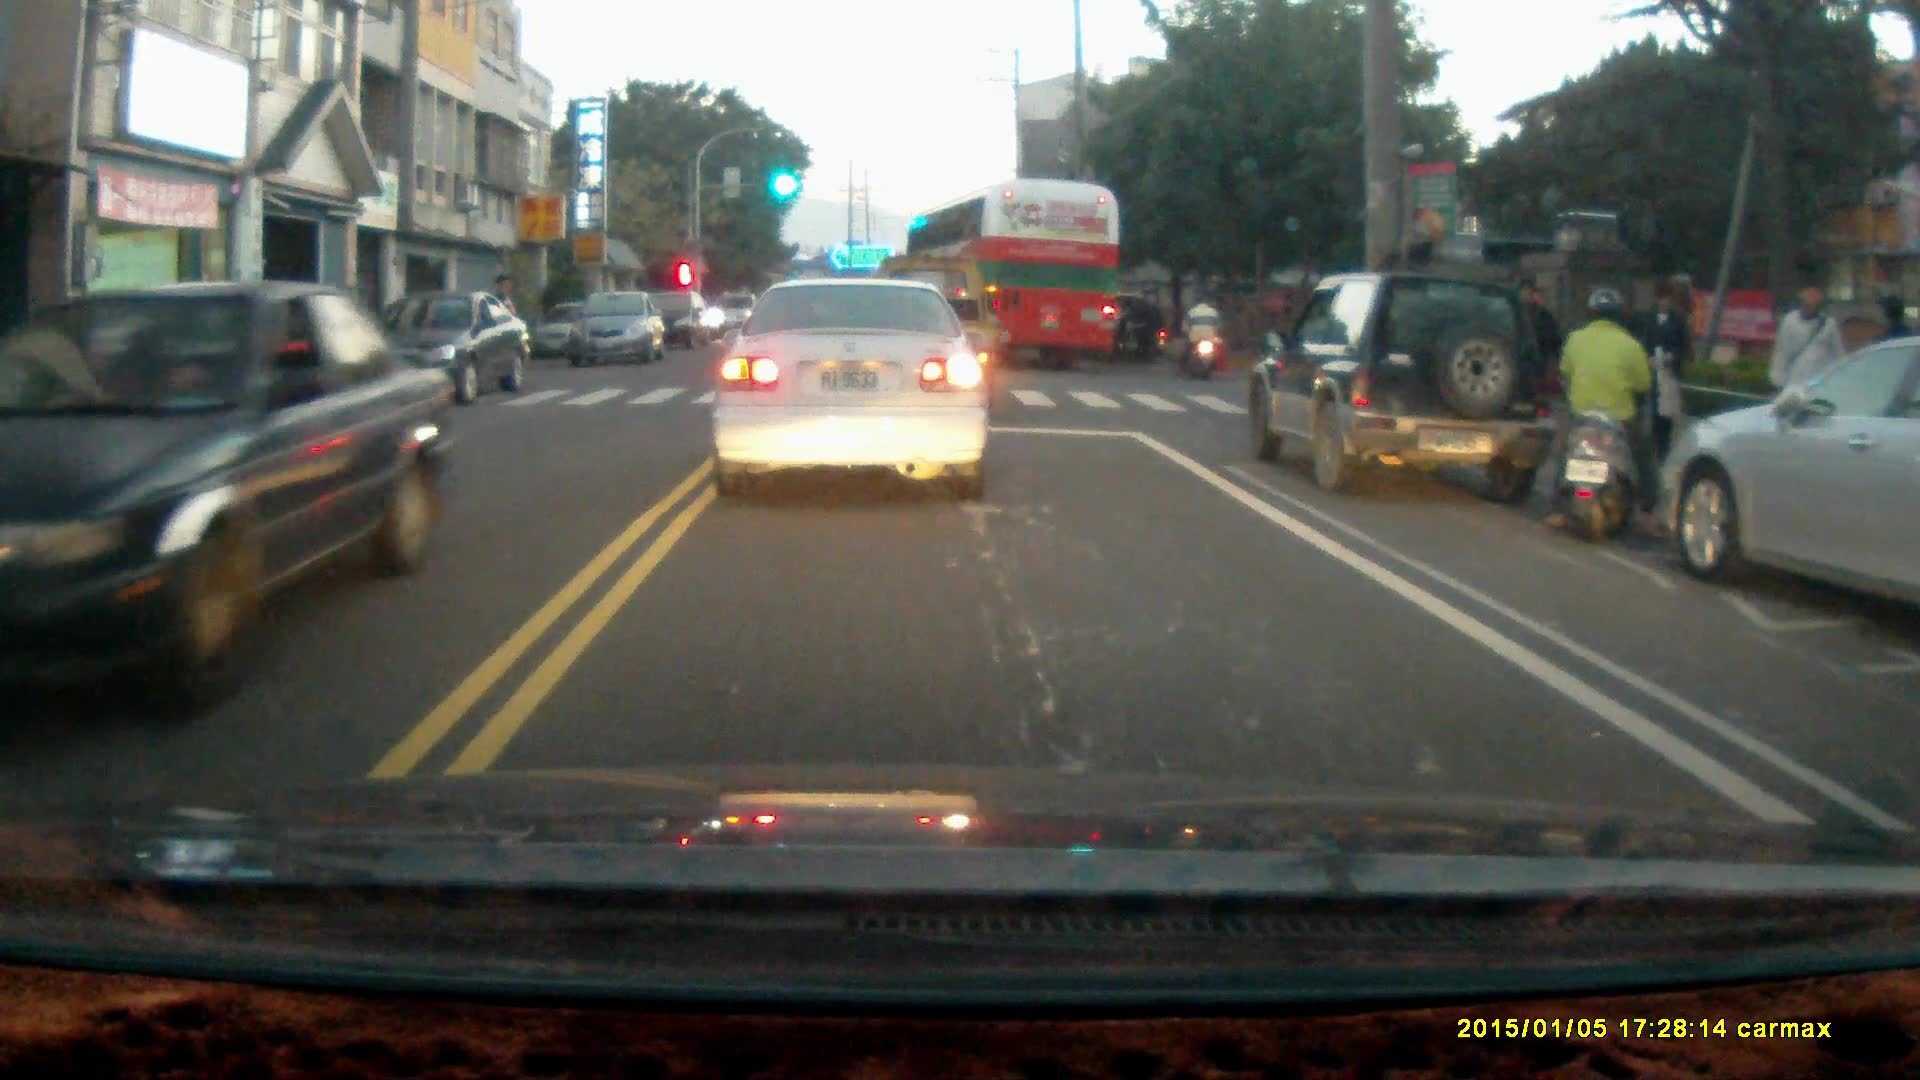pedestrian: (1771, 270, 1850, 449), (1634, 280, 1691, 459)
rider: (1544, 286, 1672, 539), (1106, 291, 1172, 365), (1179, 288, 1223, 378)
vehicle: (6, 277, 463, 719), (1244, 272, 1564, 502), (1662, 336, 1920, 615), (707, 272, 995, 503), (902, 178, 1123, 376), (570, 292, 666, 369), (632, 286, 718, 355)
